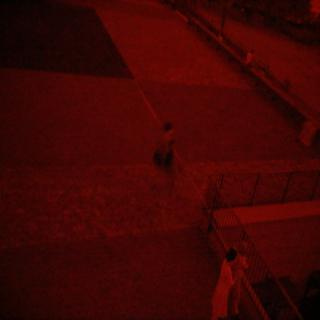person: (151, 111, 184, 214), (214, 241, 241, 320)
